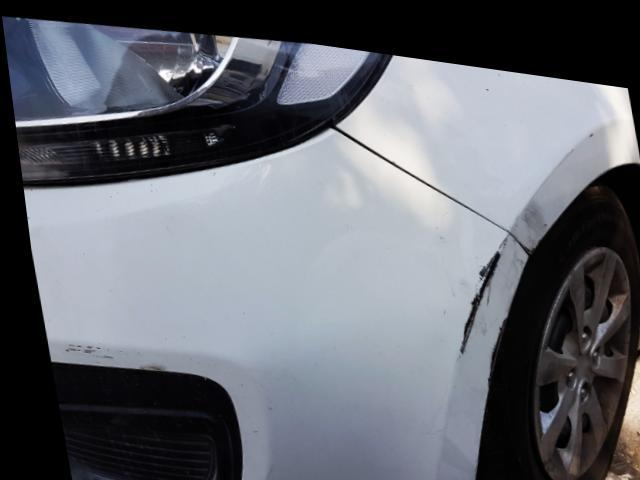scratch: (446, 221, 521, 348)
